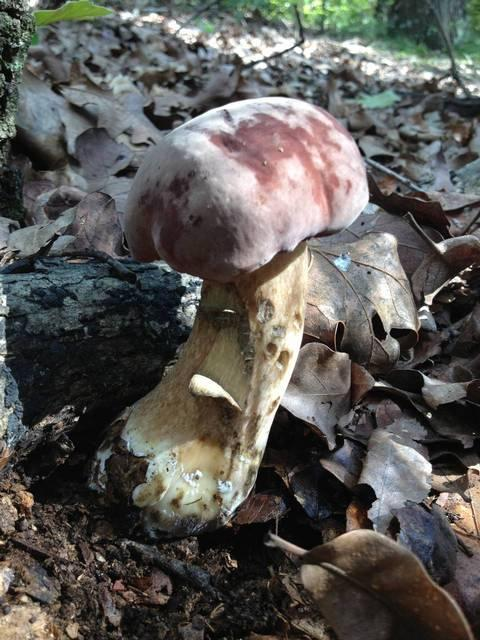poisonous_mushroom: (111, 94, 370, 539)
